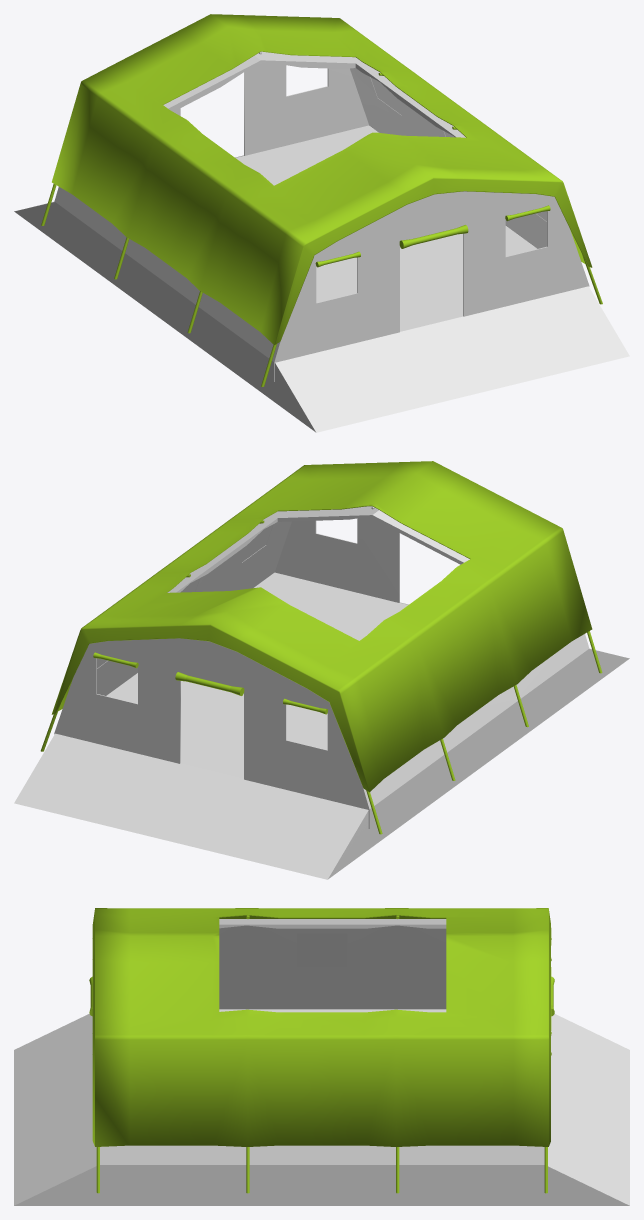
Rendered from Tenda.fbx.
3 views of the same model, one above another, from view 1: azimuth 30°, elevation 25°; view 2: azimuth 150°, elevation 25°; view 3: azimuth 270°, elevation 25° (orthographic).
Parts seen in each view (by area): view 1: Cubo.001, Cubo, Cubo.002; view 2: Cubo.001, Cubo, Cubo.002; view 3: Cubo.001, Cubo.002, Cubo.
Boxes of the visible parts, left/top/right/bottom form: Cubo.001: left=41, top=14, right=602, bottom=386; Cubo: left=54, top=51, right=589, bottom=381; Cubo.002: left=14, top=125, right=629, bottom=432; Cubo.001: left=40, top=461, right=602, bottom=834; Cubo: left=54, top=506, right=589, bottom=828; Cubo.002: left=14, top=572, right=629, bottom=879; Cubo.001: left=89, top=908, right=554, bottom=1193; Cubo.002: left=14, top=1009, right=629, bottom=1205; Cubo: left=100, top=919, right=544, bottom=1184.
Bounding box in the file's own units: 354 × 186 × 543.
